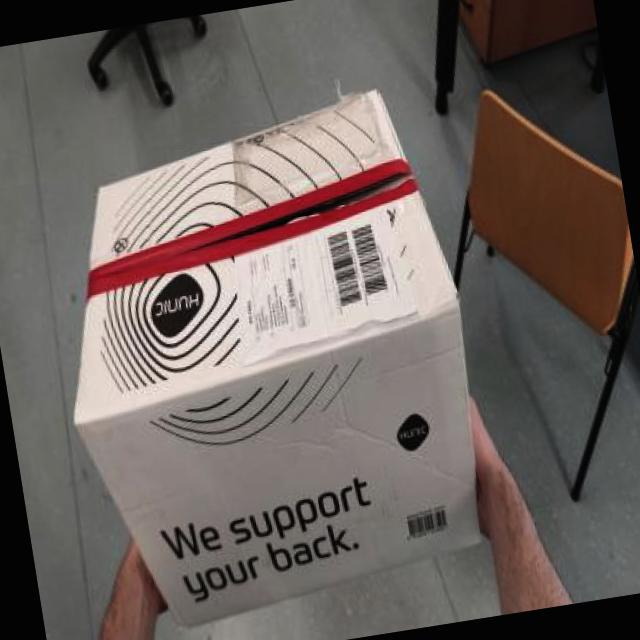box: (26, 72, 526, 640)
